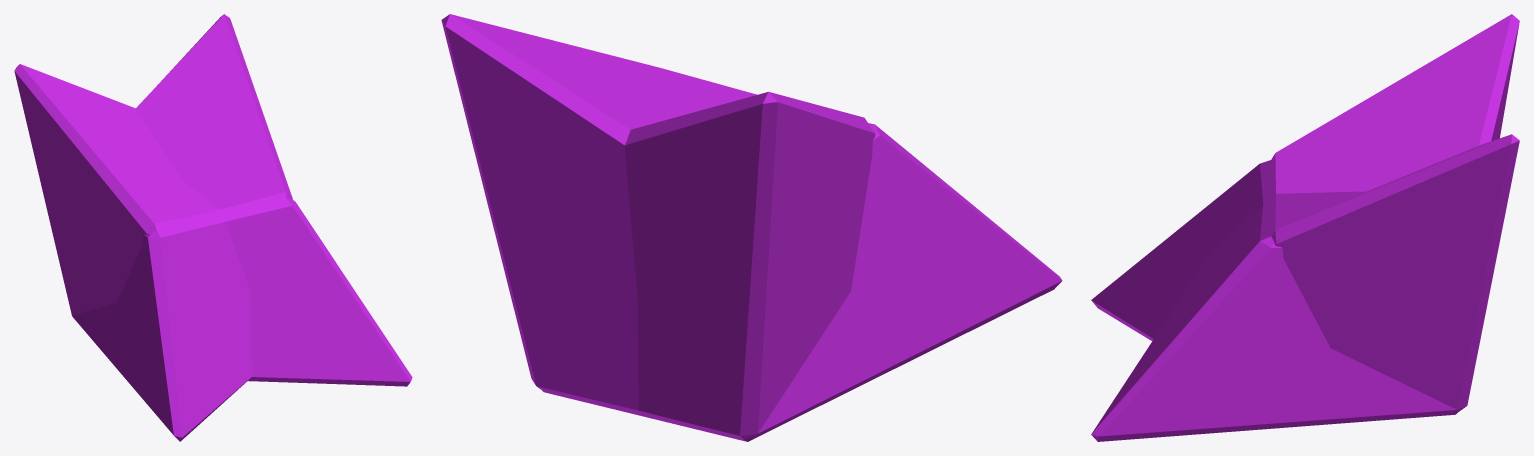
Rendered from random4.gltf.
The picture shows the model from 3 angles, left to right: view 1: azimuth 30°, elevation 25°; view 2: azimuth 150°, elevation 25°; view 3: azimuth 270°, elevation 25°; orthographic projection. The views are drawn at different scales.
Parts seen in each view (by area): view 1: Cube; view 2: Cube; view 3: Cube.
Part boxes in pixels (<box>): Cube: <box>14,14,412,441</box>; Cube: <box>441,14,1062,441</box>; Cube: <box>1091,14,1519,441</box>.
Size of the model in its own units: 3.34 by 3.35 by 4.31.
